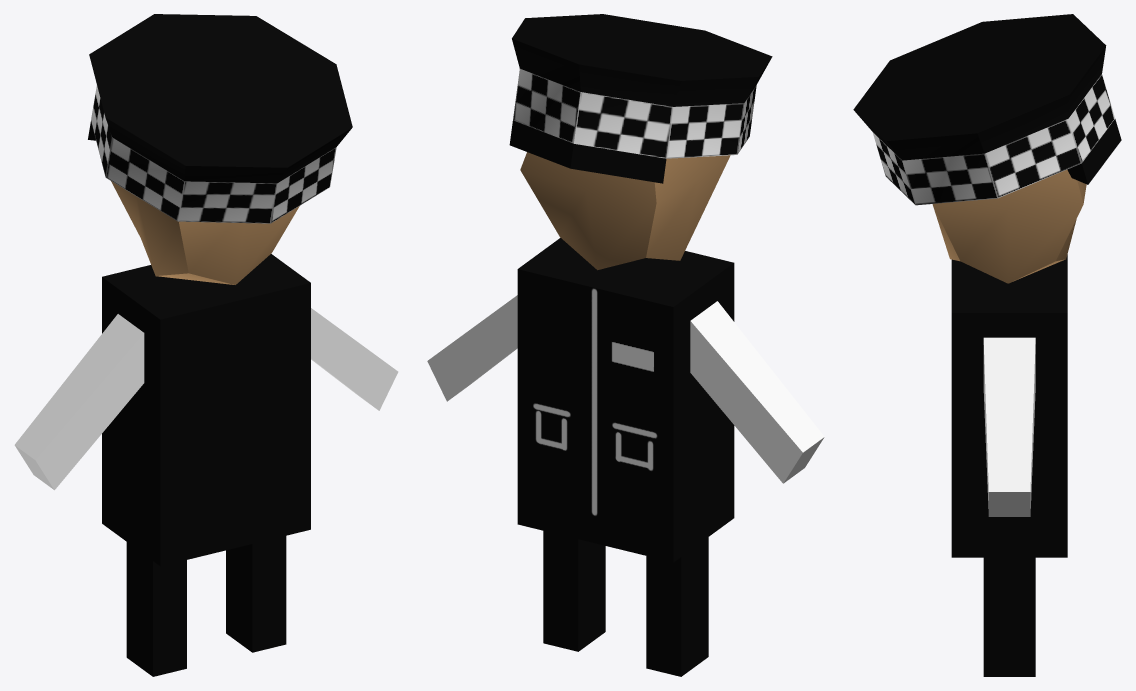
The model's file is officer.fbx.
3 views of the same model, side by side, from view 1: azimuth 30°, elevation 25°; view 2: azimuth 150°, elevation 25°; view 3: azimuth 270°, elevation 25° (orthographic). The views are drawn at different scales.
Parts seen in each view (by area): view 1: polySurface3; view 2: polySurface3; view 3: polySurface3.
Boxes of the visible parts, <box> form: polySurface3: <box>14,14,398,676</box>; polySurface3: <box>427,14,824,676</box>; polySurface3: <box>853,14,1121,676</box>.
Size of the model in its own units: 15.4 by 24.42 by 9.94.
1 material, 1 textured.
